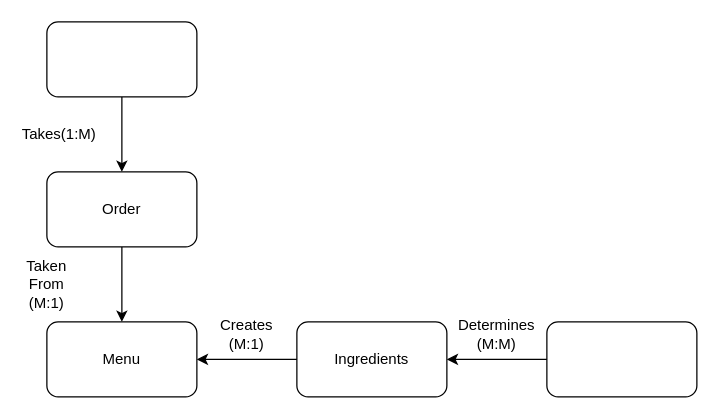
Some shapes in this 719 by 419 pixel diagram are drawn without their labels. The shapes that lost their labels are listed below. From the top down, each one's centre as x and y in pixels, then its label:
At point (121, 59): "Employee".
At point (621, 359): "Transaction Time".
